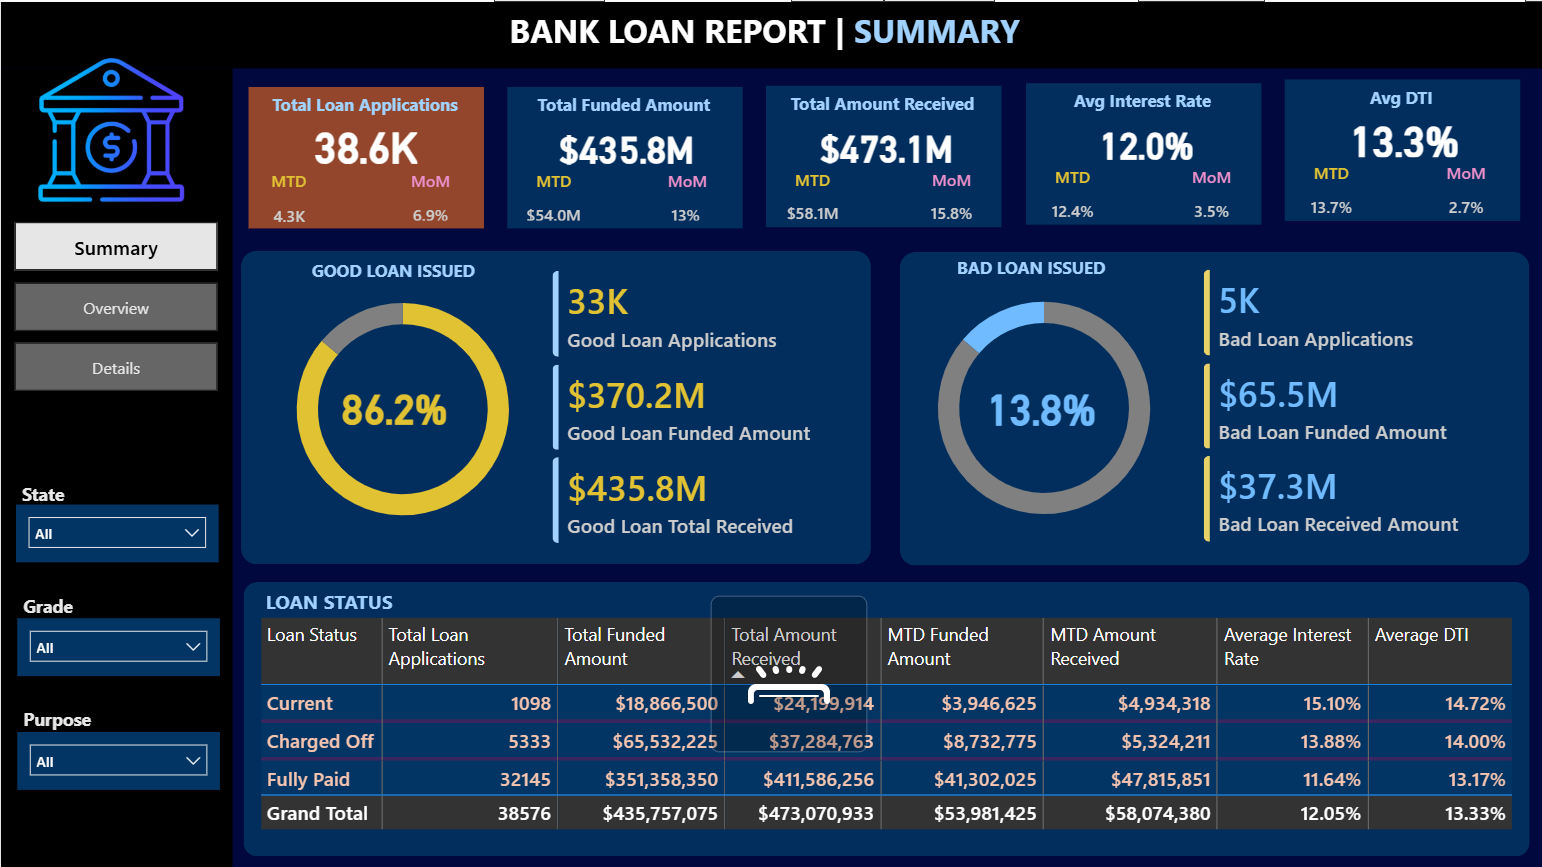

The page's visual inventory and layout, read from the dashboard file:
{"tool":"powerbi","page":{"name":"Summary","canvas":[1280,720],"ordinal":0},"visuals":[{"type":"shape","box":[201.2,481.2,1066.2,227.5],"z":0},{"type":"shape","box":[198.9,206.7,522.2,260],"z":1000},{"type":"shape","box":[0,0,1280.3,55],"z":2000},{"type":"shape","box":[1065,64.8,195.4,117.2],"z":2000,"group":"g3"},{"type":"shape","box":[850,67,195.4,117.2],"z":2000,"group":"g5"},{"type":"shape","box":[635,69.2,195.4,117.2],"z":2000,"group":"g4"},{"type":"shape","box":[420.2,70,195.4,117.2],"z":2000,"group":"g2"},{"type":"shape","box":[205.5,70.3,195.4,117.2],"z":2000,"group":"g1"},{"type":"shape","box":[0,55.3,192,665.2],"z":3000},{"type":"textbox","box":[416.5,0,447.8,52.5],"z":4000},{"type":"cardVisual","fields":{"Data":["bank_loan_data.Average DTI"]},"box":[1075.4,84.8,177.9,62.9],"z":4000,"group":"g3"},{"type":"cardVisual","fields":{"Data":["bank_loan_data.Total Loan Application"]},"box":[230,85.9,145.2,67],"z":4000,"group":"g1"},{"type":"cardVisual","fields":{"Data":["bank_loan_data.Average Interest Rate"]},"box":[857.1,87,185,62.9],"z":4000,"group":"g5"},{"type":"cardVisual","fields":{"Data":["bank_loan_data.Total Amount Received"]},"box":[642.1,89.2,185,62.9],"z":4000,"group":"g4"},{"type":"cardVisual","fields":{"Data":["bank_loan_data.Total Funded Amount"]},"box":[430.6,90,177.9,62.9],"z":4000,"group":"g2"},{"type":"textbox","box":[1065,64.8,193.2,31.3],"z":5000,"group":"g3"},{"type":"textbox","box":[850,67,193.2,31.3],"z":5000,"group":"g5"},{"type":"textbox","box":[635,69.2,193.2,31.3],"z":5000,"group":"g4"},{"type":"textbox","box":[420.2,70,193.2,31.3],"z":5000,"group":"g2"},{"type":"group","id":"g1","title":"Group 1","box":[201,70.3,199.9,124.7],"z":5000},{"type":"textbox","box":[205.5,70.3,193.2,31.3],"z":5000,"group":"g1"},{"type":"cardVisual","title":"MTD","fields":{"Data":["bank_loan_data.MTD Average DTI"]},"box":[1056.3,132.8,94,55],"z":6000,"group":"g3"},{"type":"cardVisual","title":"MTD","fields":{"Data":["bank_loan_data.MTD Average Interest Rate"]},"box":[841.3,135.8,94,55],"z":6000,"group":"g5"},{"type":"cardVisual","title":"MTD","fields":{"Data":["bank_loan_data.MTD Amount Received"]},"box":[626.3,137.2,94,55],"z":6000,"group":"g4"},{"type":"cardVisual","title":"MTD","fields":{"Data":["bank_loan_data.MTD Funded Amount"]},"box":[411.5,138,94,55],"z":6000,"group":"g2"},{"type":"cardVisual","title":"MTD","fields":{"Data":["bank_loan_data.MTD Loan Applications"]},"box":[201,139,75.5,56],"z":6000,"group":"g1"},{"type":"textbox","box":[12.2,392.4,54.4,31.1],"z":6000},{"type":"cardVisual","title":"MoM","fields":{"Data":["bank_loan_data.MoM Average DTI"]},"box":[1176.5,132.8,77,55],"z":7000,"group":"g3"},{"type":"cardVisual","title":"MoM","fields":{"Data":["bank_loan_data.MoM Average Interest Rate"]},"box":[961.5,135.8,84,55],"z":7000,"group":"g5"},{"type":"cardVisual","title":"MoM","fields":{"Data":["bank_loan_data.MoM Amount Received"]},"box":[746.5,137.2,84,55],"z":7000,"group":"g4"},{"type":"cardVisual","title":"MoM","fields":{"Data":["bank_loan_data.MoM Funded Amount"]},"box":[531.7,138,75,55],"z":7000,"group":"g2"},{"type":"cardVisual","title":"MoM","fields":{"Data":["bank_loan_data.MoM Loan Applications"]},"box":[317,139,78,55],"z":7000,"group":"g1"},{"type":"textbox","box":[218.9,207.8,213.3,33.3],"z":7000},{"type":"textbox","box":[215,481,193,34],"z":8000},{"type":"group","id":"g2","title":"Group 1","box":[411.5,70,204.1,123],"z":9000},{"type":"cardVisual","fields":{"Data":["bank_loan_data.Good Loan Percentage"]},"box":[244.5,302.6,163,68.1],"z":10000},{"type":"group","id":"g3","title":"Group 1","box":[1056.3,64.8,203.2,122.8],"z":11000},{"type":"donutChart","fields":{"Category":["bank_loan_data.Good v Bad Loan"],"Y":["bank_loan_data.Total Loan Applications"]},"box":[208.8,222.5,250,230],"z":12000},{"type":"group","id":"g4","title":"Group 1","box":[626.3,69.2,204.3,122.8],"z":13000},{"type":"group","id":"g5","title":"Group 1","box":[841.3,67,204.3,123.9],"z":14000},{"type":"shape","box":[744.8,207.7,522,260],"z":15000},{"type":"cardVisual","fields":{"Data":["bank_loan_data.Good Loan Applications","bank_loan_data.Good Loan Funded Amount","bank_loan_data.Good Loan Total Received"]},"box":[440,206.6,300.4,260.2],"z":16000},{"type":"donutChart","fields":{"Category":["bank_loan_data.Good v Bad Loan"],"Y":["bank_loan_data.Total Loan Applications"]},"box":[740,221.2,250,230],"z":17000},{"type":"textbox","box":[747.5,205,213.8,33.8],"z":18000},{"type":"cardVisual","fields":{"Data":["bank_loan_data.Bad Loan Applications","bank_loan_data.Bad Loan Funded Amount","bank_loan_data.Bad Loan Received Amount"]},"box":[980,205,300,260],"z":19000},{"type":"cardVisual","fields":{"Data":["bank_loan_data.Bad Loan Percentage"]},"box":[781.2,302.5,162.5,68.8],"z":20000},{"type":"tableEx","fields":{"Values":["bank_loan_data.loan_status","bank_loan_data.Total Loan Applications","bank_loan_data.Total Funded Amount","bank_loan_data.Total Amount Received","bank_loan_data.MTD Funded Amount","bank_loan_data.MTD Amount Received","bank_loan_data.Average Interest Rate","bank_loan_data.Average DTI"]},"box":[209.1,505.5,1050,190],"z":21000},{"type":"slicer","fields":{"Values":["bank_loan_data.address_state"]},"box":[12.1,416.7,167.9,47.9],"z":22000},{"type":"slicer","fields":{"Values":["bank_loan_data.grade"]},"box":[13.3,511,167.9,47.9],"z":23000},{"type":"textbox","box":[13.1,486,68.9,31.1],"z":24000},{"type":"slicer","fields":{"Values":["bank_loan_data.purpose"]},"box":[13.3,605.4,167.9,47.9],"z":25000},{"type":"textbox","box":[13.3,579.7,85,30.7],"z":26000},{"type":"pageNavigator","box":[11.1,182.2,168.9,141.1],"z":26001},{"type":"image","box":[0,32.2,180,150],"z":26002}]}

Visuals, with their boxes in screenshot pixels (x1, y1, x2, y2), scaled from the page's 1280x720 canvas onto the 1542x867 screenshot:
shape: region(242, 579, 1527, 853)
shape: region(240, 249, 869, 562)
shape: region(0, 0, 1541, 66)
shape: region(1283, 78, 1518, 219)
shape: region(1024, 81, 1259, 222)
shape: region(765, 83, 1000, 224)
shape: region(506, 84, 742, 225)
shape: region(248, 85, 483, 226)
shape: region(0, 67, 231, 866)
textbox: region(502, 0, 1041, 63)
cardVisual - bank_loan_data.Average DTI: region(1296, 102, 1510, 178)
cardVisual - bank_loan_data.Total Loan Application: region(277, 103, 452, 184)
cardVisual - bank_loan_data.Average Interest Rate: region(1033, 105, 1255, 181)
cardVisual - bank_loan_data.Total Amount Received: region(774, 107, 996, 183)
cardVisual - bank_loan_data.Total Funded Amount: region(519, 108, 733, 184)
textbox: region(1283, 78, 1516, 116)
textbox: region(1024, 81, 1257, 118)
textbox: region(765, 83, 998, 121)
textbox: region(506, 84, 739, 122)
"Group 1" group: region(242, 85, 483, 235)
textbox: region(248, 85, 480, 122)
"MTD" cardVisual: region(1273, 160, 1386, 226)
"MTD" cardVisual: region(1014, 164, 1127, 230)
"MTD" cardVisual: region(754, 165, 868, 231)
"MTD" cardVisual: region(496, 166, 609, 232)
"MTD" cardVisual: region(242, 167, 333, 235)
textbox: region(15, 473, 80, 510)
"MoM" cardVisual: region(1417, 160, 1510, 226)
"MoM" cardVisual: region(1158, 164, 1260, 230)
"MoM" cardVisual: region(899, 165, 1000, 231)
"MoM" cardVisual: region(641, 166, 731, 232)
"MoM" cardVisual: region(382, 167, 476, 234)
textbox: region(264, 250, 521, 290)
textbox: region(259, 579, 492, 620)
"Group 1" group: region(496, 84, 742, 232)
cardVisual - bank_loan_data.Good Loan Percentage: region(295, 364, 491, 446)
"Group 1" group: region(1273, 78, 1517, 226)
donutChart - bank_loan_data.Good v Bad Loan x bank_loan_data.Total Loan Applications: region(252, 268, 553, 545)
"Group 1" group: region(754, 83, 1001, 231)
"Group 1" group: region(1014, 81, 1260, 230)
shape: region(897, 250, 1526, 563)
cardVisual - bank_loan_data.Good Loan Applications x bank_loan_data.Good Loan Funded Amount: region(530, 249, 892, 562)
donutChart - bank_loan_data.Good v Bad Loan x bank_loan_data.Total Loan Applications: region(891, 266, 1193, 543)
textbox: region(901, 247, 1158, 288)
cardVisual - bank_loan_data.Bad Loan Applications x bank_loan_data.Bad Loan Funded Amount: region(1181, 247, 1541, 560)
cardVisual - bank_loan_data.Bad Loan Percentage: region(941, 364, 1137, 447)
tableEx - bank_loan_data.loan_status x bank_loan_data.Total Loan Applications: region(252, 609, 1517, 837)
slicer - bank_loan_data.address_state: region(15, 502, 217, 559)
slicer - bank_loan_data.grade: region(16, 615, 218, 673)
textbox: region(16, 585, 99, 623)
slicer - bank_loan_data.purpose: region(16, 729, 218, 787)
textbox: region(16, 698, 118, 735)
pageNavigator: region(13, 219, 217, 389)
image: region(0, 39, 217, 219)
